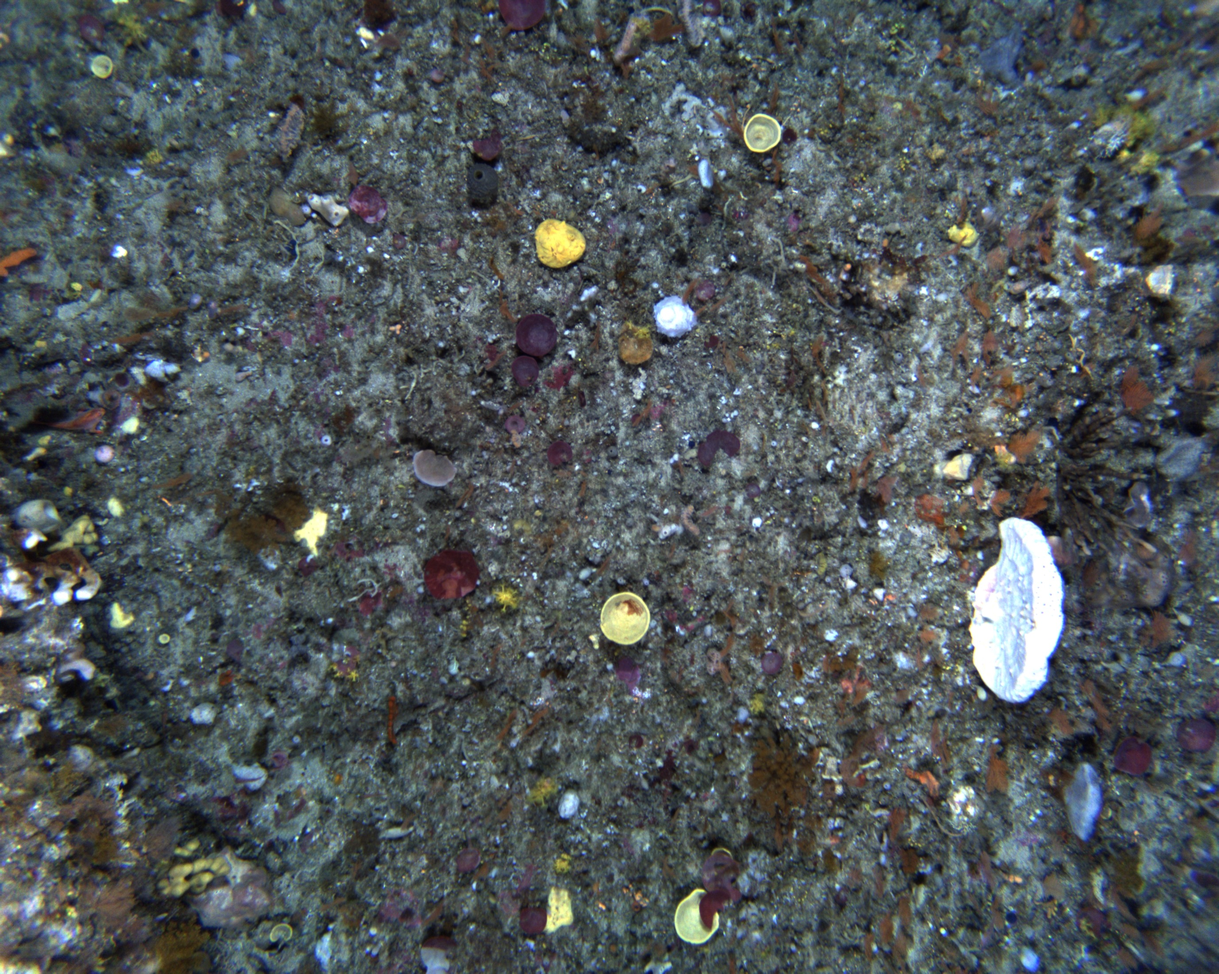Brachionichthyidae: (37, 400, 109, 437)
